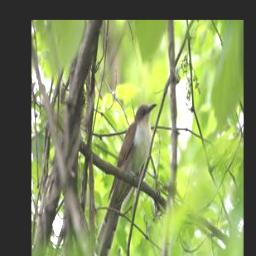Cuckoo: (94, 99, 158, 256)
